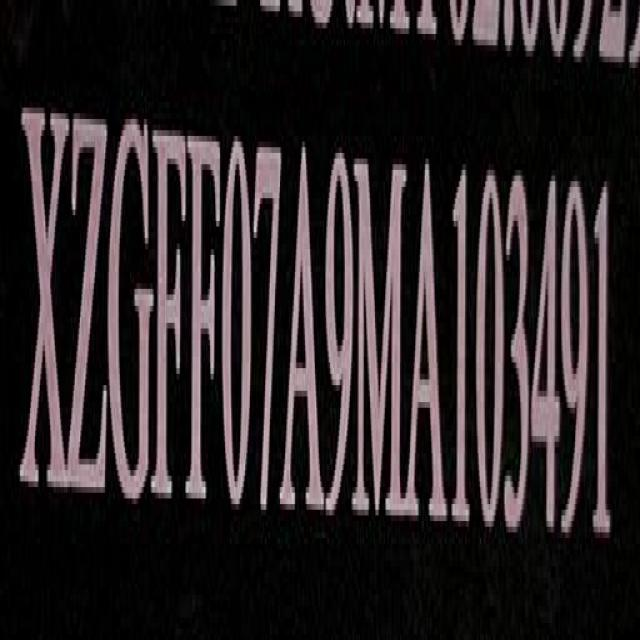0: (222, 127, 255, 522), (474, 162, 501, 538)
1: (591, 176, 614, 554), (451, 155, 471, 533)
3: (502, 170, 530, 537)
4: (530, 171, 558, 548)
7: (252, 138, 284, 510)
9: (324, 148, 354, 526), (560, 179, 590, 552)
A: (282, 140, 325, 506), (409, 149, 444, 531)
F: (190, 122, 224, 523), (156, 116, 187, 519)
G: (106, 99, 154, 512)
M: (353, 145, 407, 532)
X: (21, 103, 66, 516)
Z: (67, 103, 107, 512)
